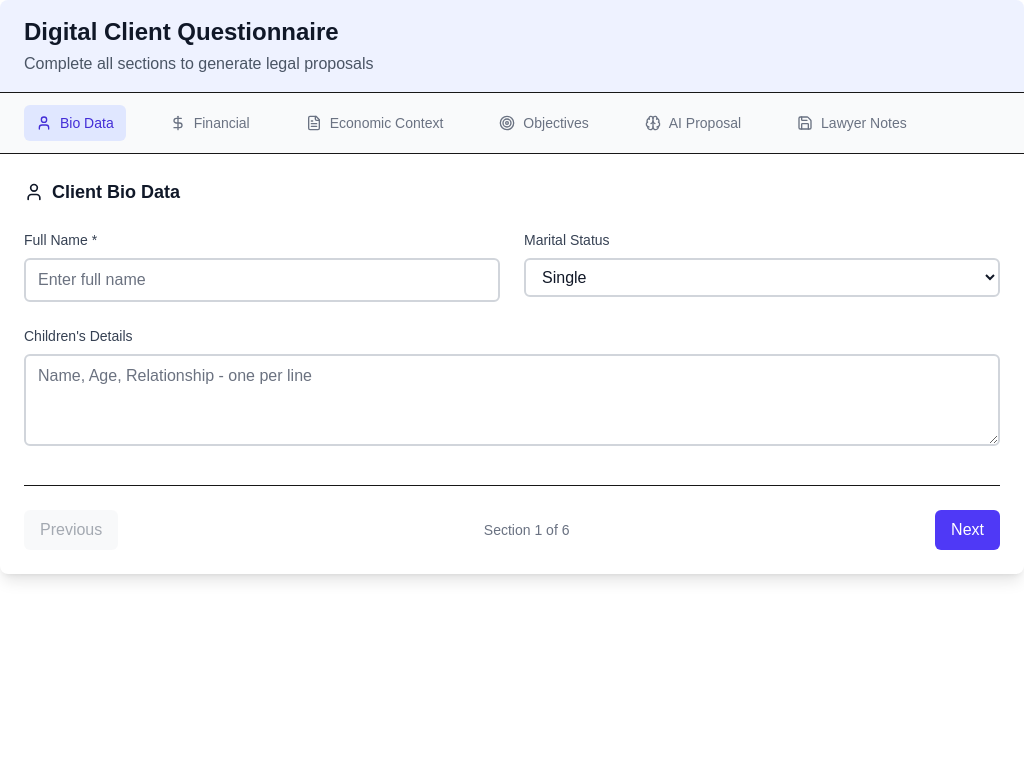
Scenario: QuestionnaireForm › Form Navigation › uses Next/Previous buttons for navigation
Expected: the button "Previous" is disabled, [24, 510, 118, 550]
// Navigate to next section
Click the button "Next". click: (968, 530)
box: [935, 510, 1000, 550]
(page scrolled)
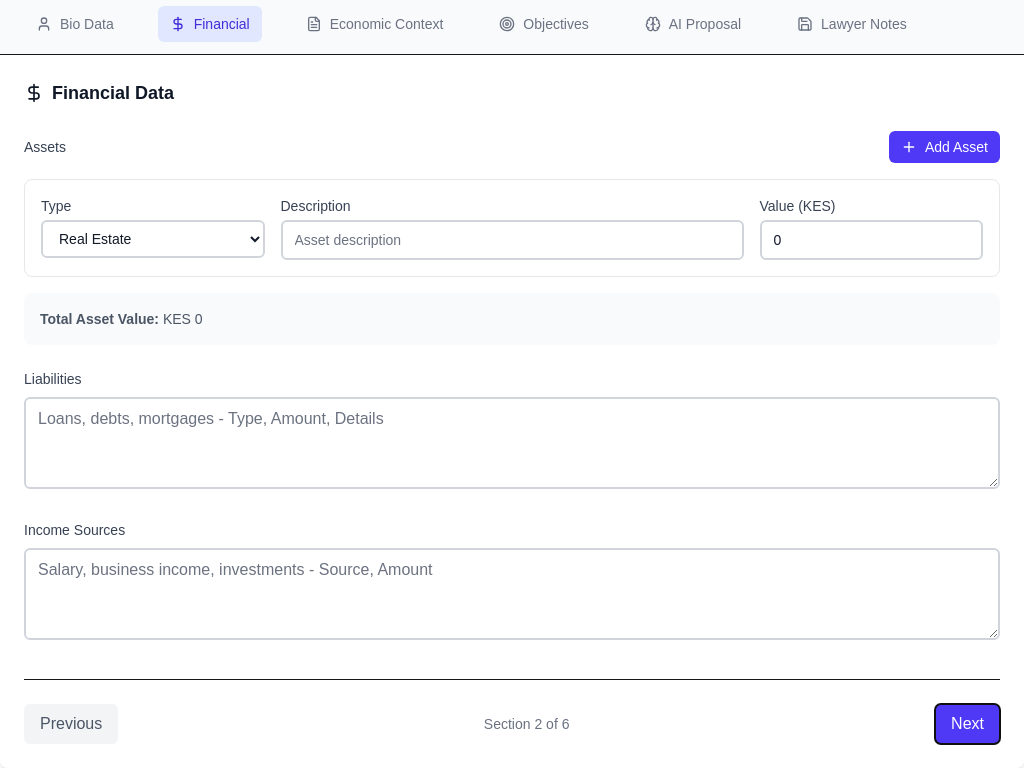
Expected: the heading "Financial Data" is shown, [24, 83, 174, 103]
Expected: the button "Previous" is enabled, [24, 704, 118, 744]
